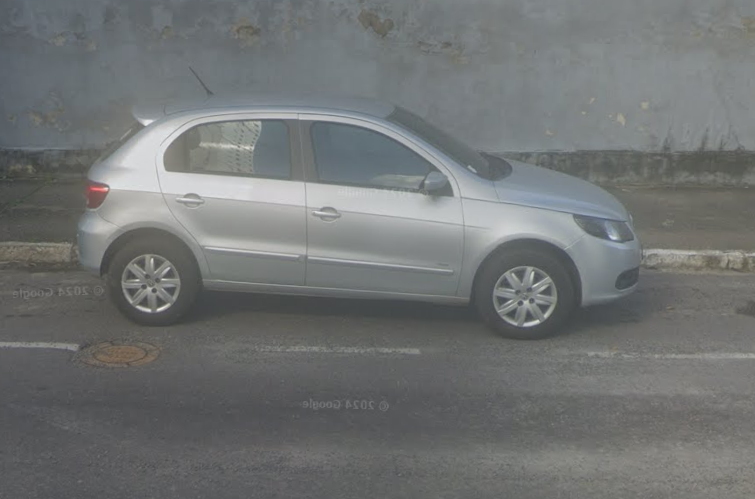car: (71, 64, 648, 342)
